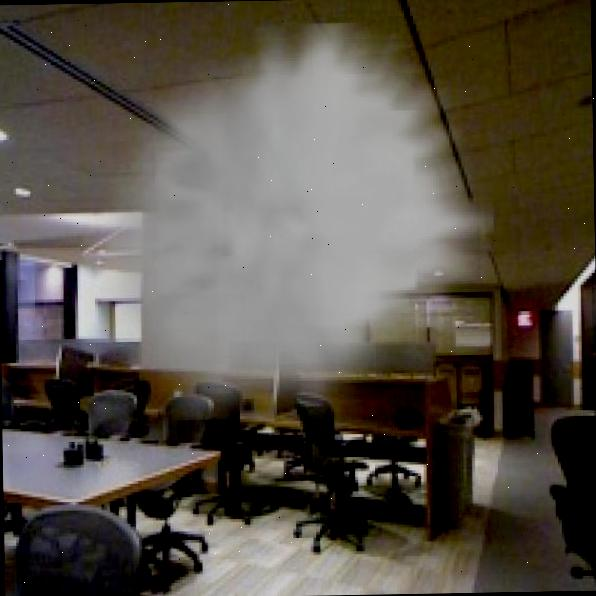smoke: (79, 21, 497, 422)
